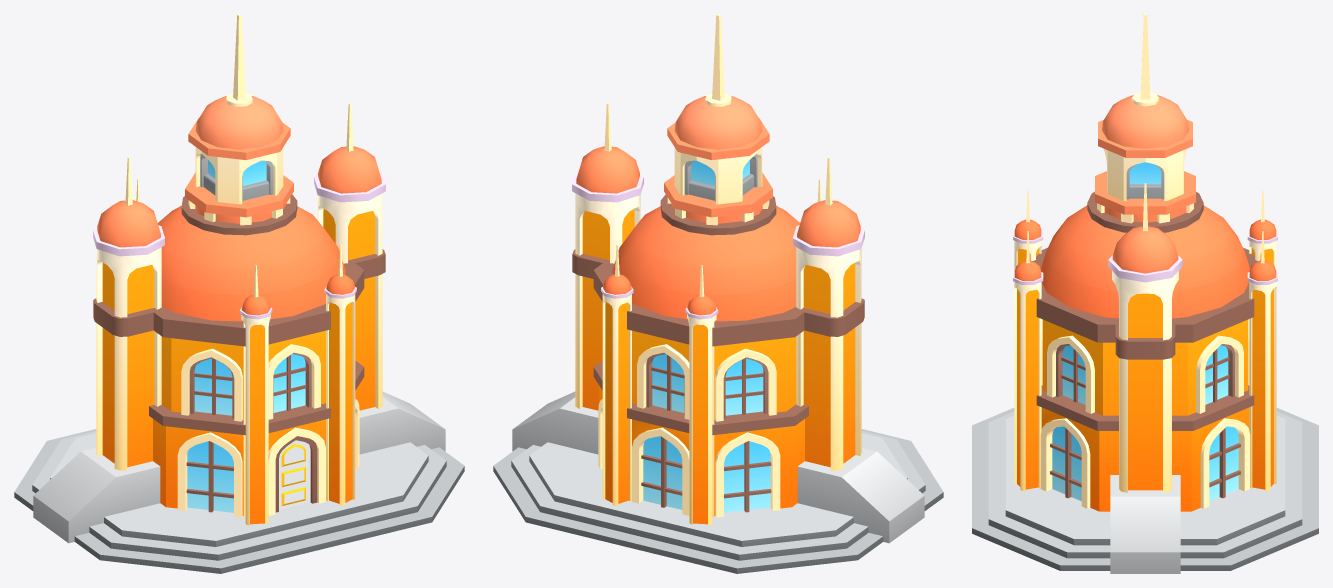
File: Building_Temple_09.glb
3 renders of one model, left to right at view 1: azimuth 30°, elevation 25°; view 2: azimuth 150°, elevation 25°; view 3: azimuth 270°, elevation 25°, orthographic.
Visible parts, largest first — view 1: Building_Temple_09; view 2: Building_Temple_09; view 3: Building_Temple_09.
Boxes of the visible parts, bbox=[...] form: Building_Temple_09: bbox=[14, 14, 464, 573]; Building_Temple_09: bbox=[493, 14, 943, 573]; Building_Temple_09: bbox=[972, 14, 1318, 573].
Size of the model in its own units: 15.71 by 18.7 by 12.57.
Materials: 1 (1 with a texture image).
